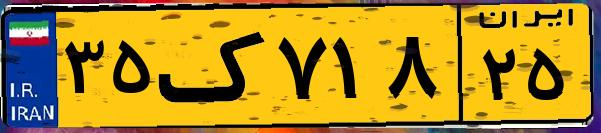1: (330, 28, 385, 110)
2: (475, 38, 525, 113)
3: (57, 26, 110, 100)
5: (525, 38, 570, 115), (110, 28, 158, 98)
7: (270, 28, 330, 110)
8: (385, 28, 445, 110)
ک: (158, 12, 270, 120)
